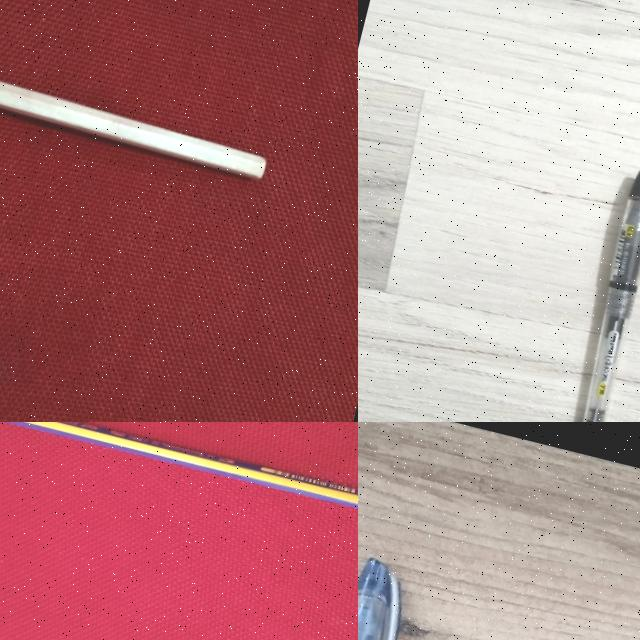pen: (582, 171, 640, 422), (358, 559, 400, 639)
pencil: (1, 422, 357, 507), (0, 82, 264, 178)
